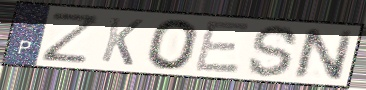E: (192, 19, 253, 75)
K: (98, 15, 147, 68)
N: (292, 27, 357, 82)
O: (145, 17, 201, 72)
S: (246, 23, 301, 79)
Z: (40, 10, 105, 65)
